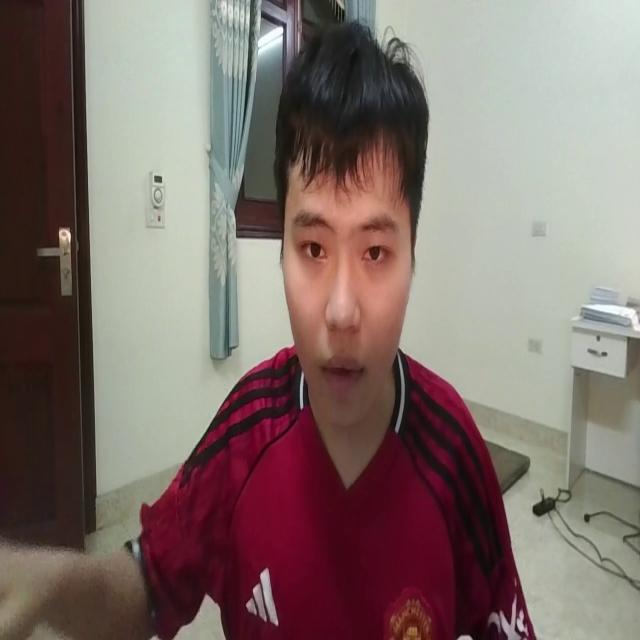student: (0, 4, 532, 639)
